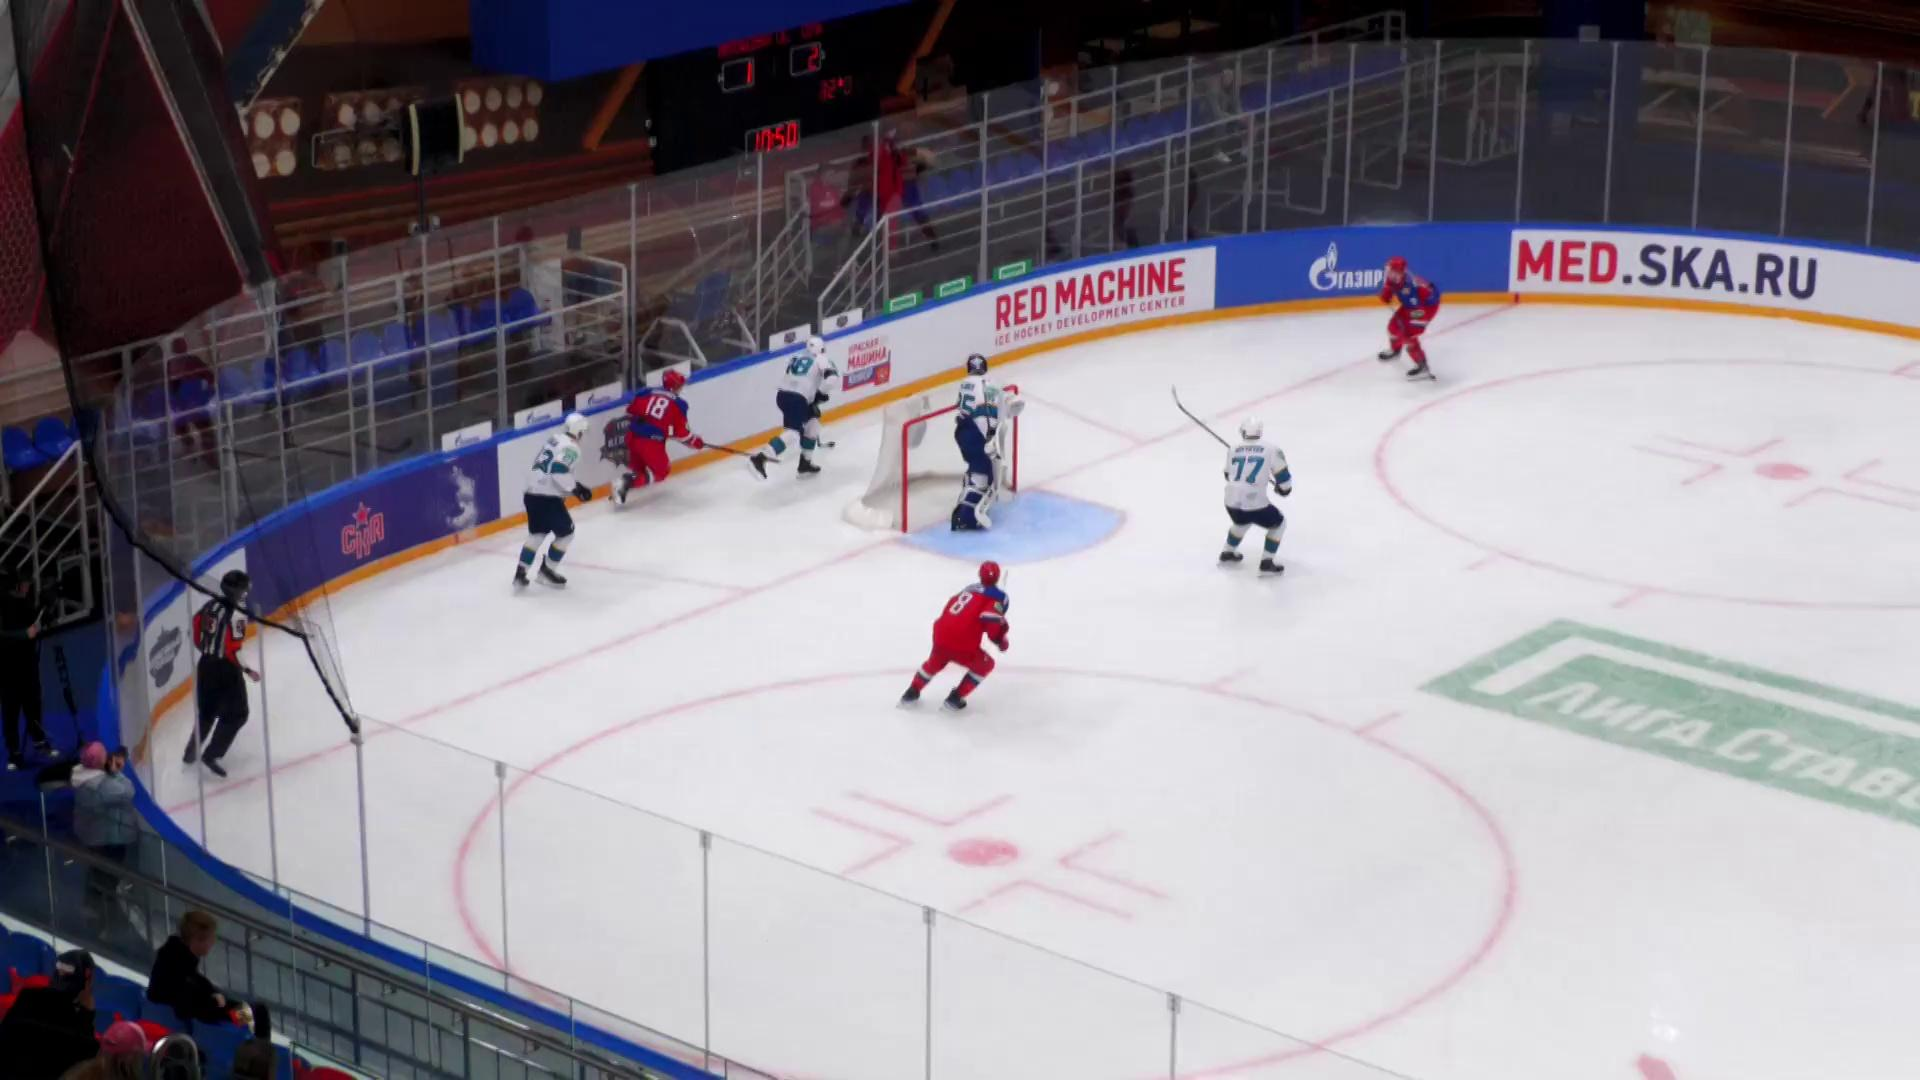ball: (828, 442, 836, 448)
